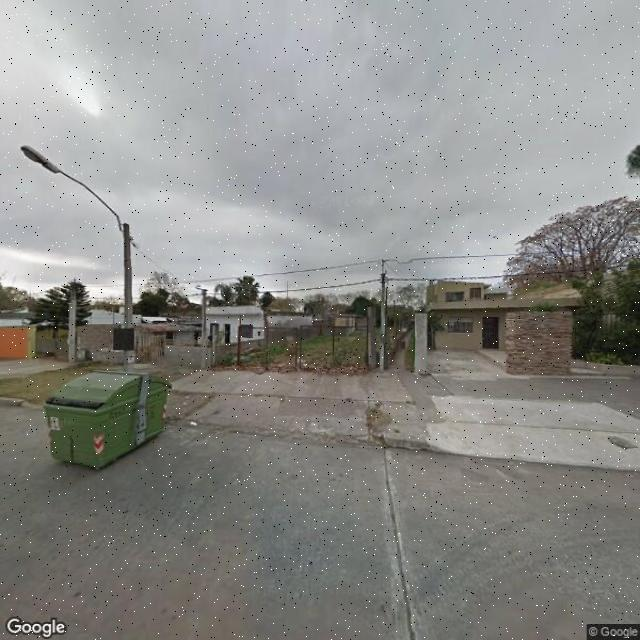garbage container: (36, 358, 185, 481)
